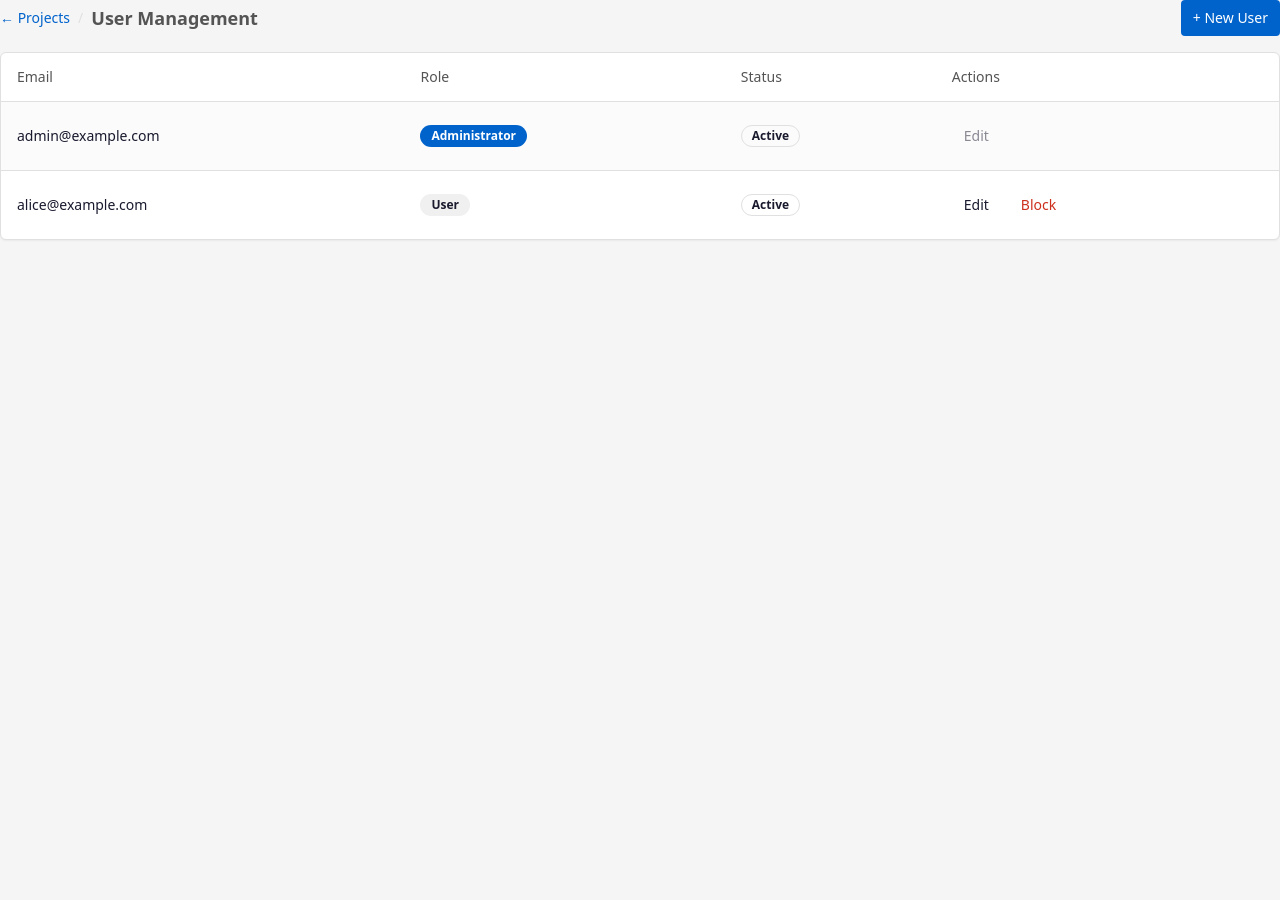
Test: AdminUsersPage › opens user form when New User is clicked
Click the button "+ New User". click: point(1230, 18)
box: [1181,0,1279,36]
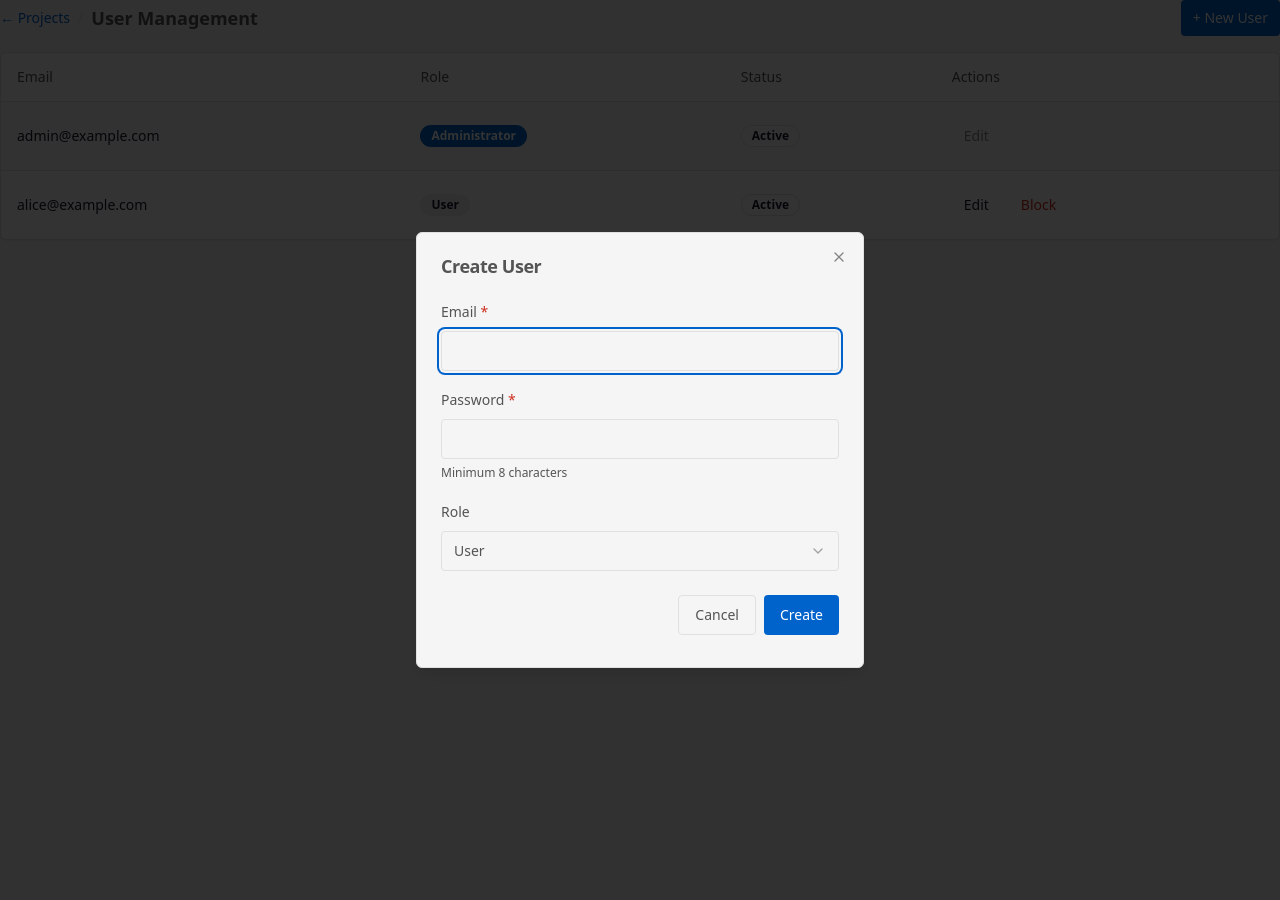
Now the heading "Create User" is shown, box [441,254,541,278]
